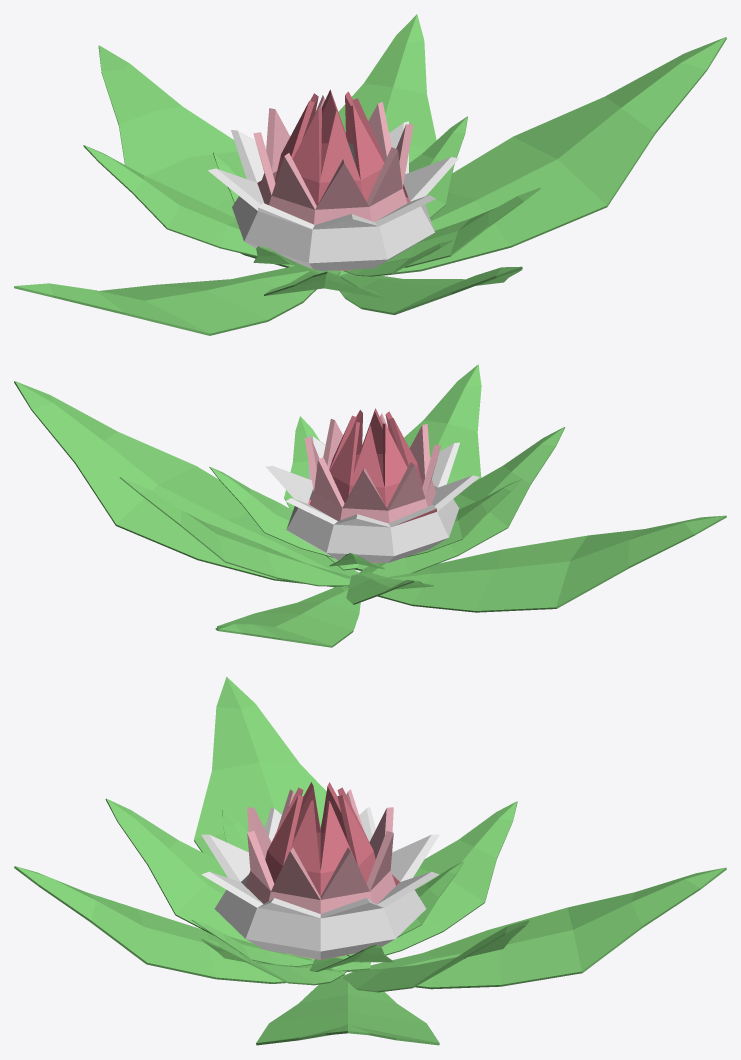
The model's file is flower 2.fbx.
3 views of the same model, one above another, from view 1: azimuth 30°, elevation 25°; view 2: azimuth 150°, elevation 25°; view 3: azimuth 270°, elevation 25° (orthographic). The views are drawn at different scales.
Parts seen in each view (by area): view 1: Plane.000; view 2: Plane.000; view 3: Plane.000.
Boxes of the visible parts, bbox=[...] form: Plane.000: bbox=[14, 14, 726, 335]; Plane.000: bbox=[14, 364, 726, 647]; Plane.000: bbox=[14, 676, 726, 1045].
Size of the model in its own units: 78.17 by 18.05 by 63.72.
